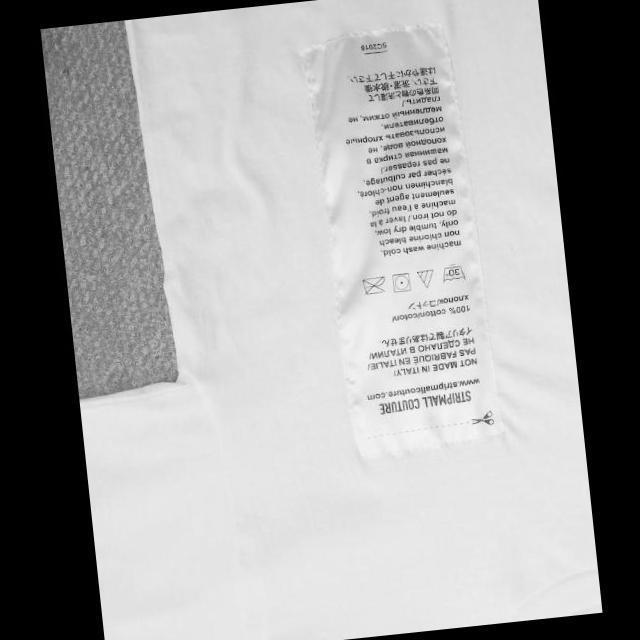30C: (437, 260, 466, 284)
DN_iron: (359, 273, 386, 296)
non_chlorine_bleach: (414, 266, 434, 290)
tumble_dry_low: (390, 270, 411, 293)
